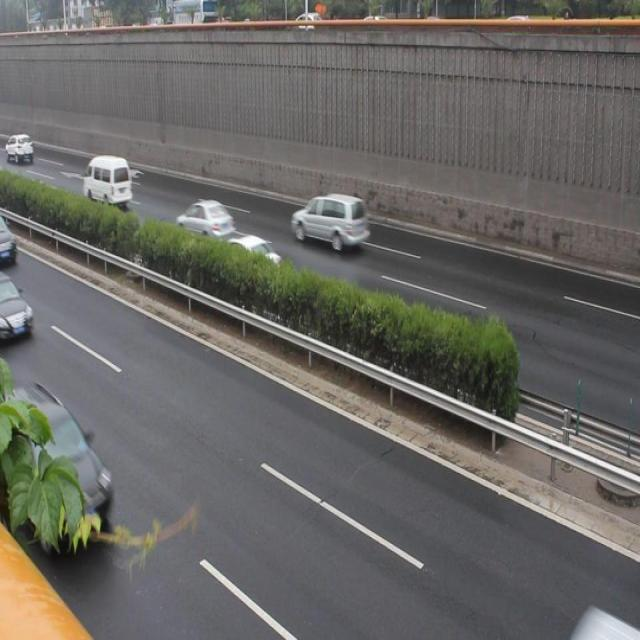car: (10, 376, 117, 539), (222, 228, 280, 278), (176, 197, 237, 244), (1, 276, 36, 343)
truck: (291, 185, 369, 252), (82, 153, 131, 212)
